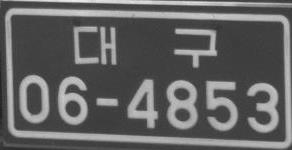0: (18, 73, 50, 123)
3: (247, 82, 279, 133)
4: (127, 77, 157, 128)
5: (205, 81, 238, 131)
6: (56, 75, 88, 125)
8: (165, 78, 198, 130)
대구_D: (72, 24, 217, 68)
